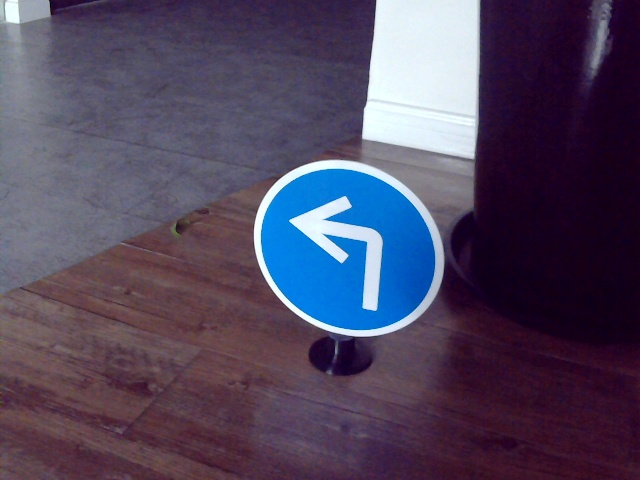turn_left: (291, 191, 385, 305)
